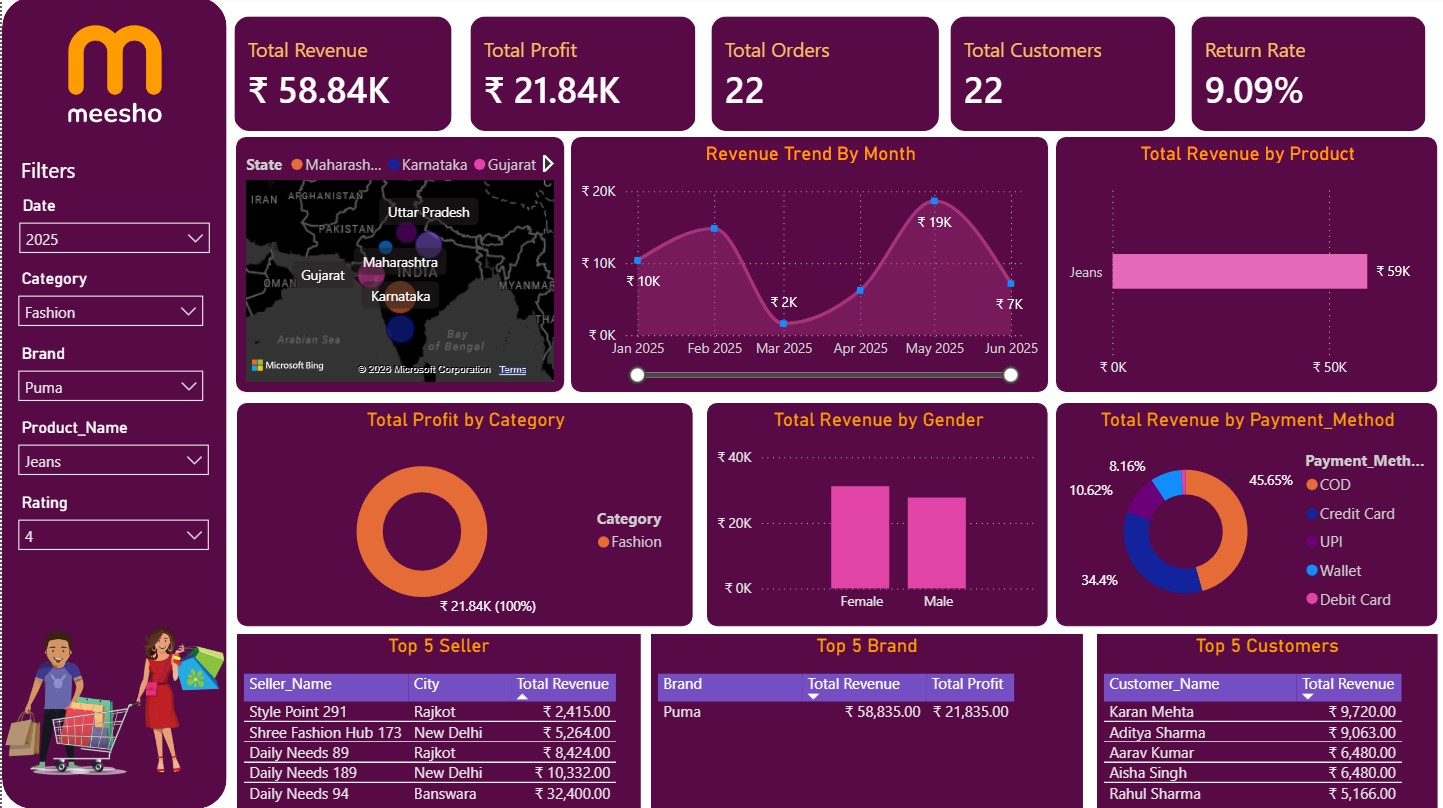

This screenshot's page, from the dashboard's own definition file:
{"tool":"powerbi","page":{"name":"Page 1","canvas":[1280,720],"ordinal":0},"visuals":[{"type":"shape","box":[0,0,199.4,719.8],"z":0},{"type":"image","box":[11.7,0,177,136.2],"z":1000},{"type":"cardVisual","fields":{"Data":["Orders.Total Revenue"]},"box":[189,0,227,136],"z":2000},{"type":"cardVisual","fields":{"Data":["Orders.Total Profit"]},"box":[397.8,0,234.4,136.2],"z":3000},{"type":"image","box":[0,528.1,199.4,191.6],"z":4000},{"type":"donutChart","fields":{"Category":["Products.Category"],"Y":["Orders.Total Profit"]},"box":[208,360,404,198],"z":5000},{"type":"cardVisual","fields":{"Data":["Orders.Total Orders"]},"box":[612,0,236,136],"z":6000},{"type":"cardVisual","fields":{"Data":["Customers.Total Customers"]},"box":[823.8,0,234.4,136.2],"z":7000},{"type":"cardVisual","fields":{"Data":["Returns.Return Rate"]},"box":[1037.8,0,242.2,136.2],"z":8000},{"type":"areaChart","title":"Revenue Trend By Month","fields":{"Category":["Orders.Order_Date.Variation.Date Hierarchy.Year","Orders.Order_Date.Variation.Date Hierarchy.Month"],"Y":["Orders.Total Revenue"]},"box":[504.8,124.5,423.1,225.7],"z":9000},{"type":"barChart","title":"Total Revenue by Product","fields":{"Y":["Orders.Total Revenue"],"Category":["Products.Product_Name"]},"box":[935,124,338,226],"z":10000},{"type":"donutChart","fields":{"Category":["Orders.Payment_Method"],"Y":["Orders.Total Revenue"]},"box":[935,360,338,198],"z":11000},{"type":"tableEx","title":"Top 5 Customers","fields":{"Values":["Customers.Customer_Name","Orders.Total Revenue"]},"box":[971,565,302,155],"z":12000},{"type":"columnChart","fields":{"Category":["Customers.Gender"],"Y":["Orders.Total Revenue"]},"box":[625,360,302.5,198.4],"z":13000},{"type":"tableEx","title":"Top 5 Brand","fields":{"Values":["Products.Brand","Orders.Total Revenue","Orders.Total Profit"]},"box":[575.8,565.1,383.2,154.7],"z":14000},{"type":"tableEx","title":"Top 5 Seller","fields":{"Values":["Sellers.Seller_Name","Sellers.City","Orders.Total Revenue"]},"box":[208,565,358,155],"z":15000},{"type":"slicer","fields":{"Values":["Orders.Order_Date.Variation.Date Hierarchy.Year","Orders.Order_Date.Variation.Date Hierarchy.Month"]},"box":[5,172,189,66],"z":16000},{"type":"textbox","box":[11.5,135.6,78,36],"z":17000},{"type":"slicer","fields":{"Values":["Products.Category"]},"box":[4.8,236.6,183.7,66.4],"z":18000},{"type":"slicer","fields":{"Values":["Products.Brand"]},"box":[4.8,302.9,184,66],"z":19000},{"type":"slicer","fields":{"Values":["Products.Product_Name"]},"box":[4.8,369.3,189,66],"z":20000},{"type":"slicer","fields":{"Values":["Products.Rating"]},"box":[4.8,435.6,189,66],"z":21000},{"type":"map","fields":{"Category":["Customers.State"],"Size":["Orders.Total Revenue"],"Series":["Customers.State"]},"box":[207.5,124.1,290.8,226.1],"z":21001}]}

Visuals, with their boxes in screenshot pixels (x1, y1, x2, y2), scaled from the page's 1280x720 canvas onto the 1443x808 screenshot:
shape: l=0, t=0, r=225, b=807
image: l=13, t=0, r=213, b=153
cardVisual - Orders.Total Revenue: l=213, t=0, r=469, b=153
cardVisual - Orders.Total Profit: l=448, t=0, r=713, b=153
image: l=0, t=593, r=225, b=807
donutChart - Products.Category x Orders.Total Profit: l=234, t=404, r=690, b=626
cardVisual - Orders.Total Orders: l=690, t=0, r=956, b=153
cardVisual - Customers.Total Customers: l=929, t=0, r=1193, b=153
cardVisual - Returns.Return Rate: l=1170, t=0, r=1442, b=153
"Revenue Trend By Month" areaChart: l=569, t=140, r=1046, b=393
"Total Revenue by Product" barChart: l=1054, t=139, r=1435, b=393
donutChart - Orders.Payment_Method x Orders.Total Revenue: l=1054, t=404, r=1435, b=626
"Top 5 Customers" tableEx: l=1095, t=634, r=1435, b=807
columnChart - Customers.Gender x Orders.Total Revenue: l=705, t=404, r=1046, b=627
"Top 5 Brand" tableEx: l=649, t=634, r=1081, b=807
"Top 5 Seller" tableEx: l=234, t=634, r=638, b=807
slicer - Orders.Order_Date.Variation.Date Hierarchy.Year x Orders.Order_Date.Variation.Date Hierarchy.Month: l=6, t=193, r=219, b=267
textbox: l=13, t=152, r=101, b=193
slicer - Products.Category: l=5, t=266, r=213, b=340
slicer - Products.Brand: l=5, t=340, r=213, b=414
slicer - Products.Product_Name: l=5, t=414, r=218, b=489
slicer - Products.Rating: l=5, t=489, r=218, b=563
map - Customers.State x Orders.Total Revenue: l=234, t=139, r=562, b=393
